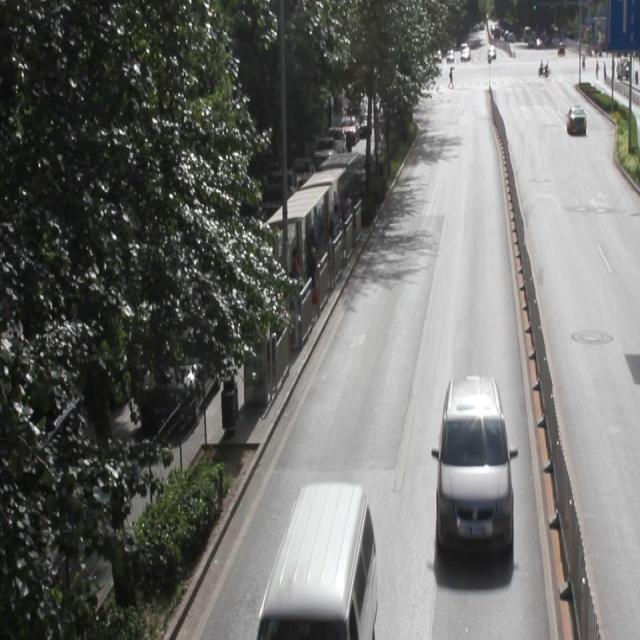car: (434, 375, 512, 560), (565, 104, 585, 137)
truck: (260, 479, 377, 640)
